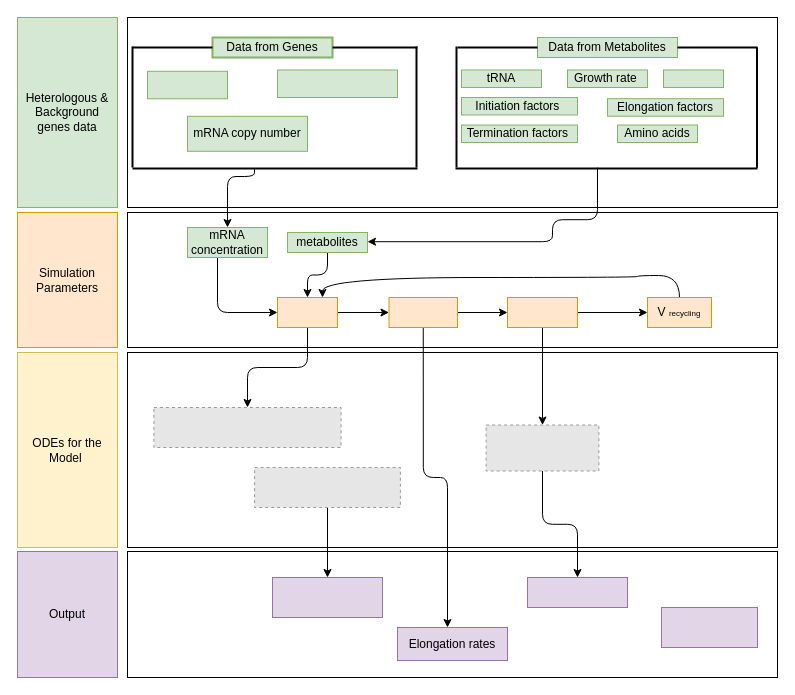
Some shapes in this 795 by 695 pixel diagram are drawn without their labels. Grey dashed boxes stand in for pictures. Here are the shapes that lost their labels. From the top down, the box of each, then its label:
(146, 70, 228, 99): Sequences
(276, 69, 398, 98): mRNA concentrations
(662, 69, 724, 88): ATPs
(276, 296, 338, 328): V intiation
(388, 296, 458, 328): V elongation
(506, 296, 578, 328): V termination
(272, 576, 382, 618): Ribosomal concentration
(526, 576, 628, 608): Protein concentration
(660, 606, 758, 648): Metabolites concentration
